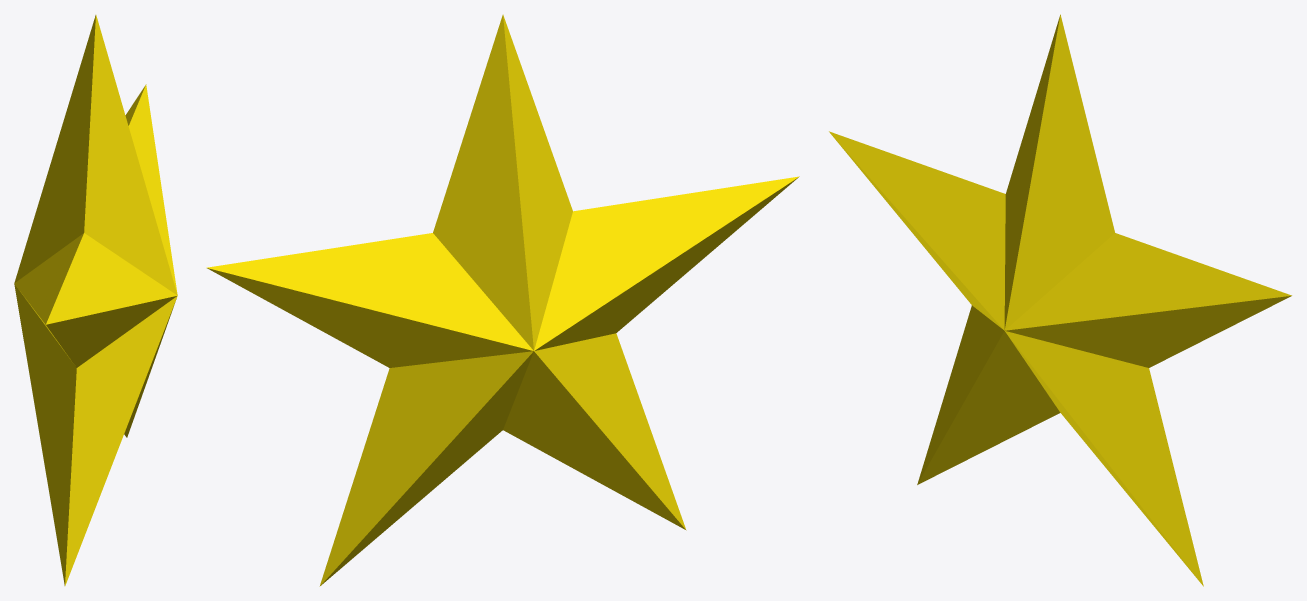
Rendered from star.gltf.
3 renders of one model, left to right at view 1: azimuth 30°, elevation 25°; view 2: azimuth 150°, elevation 25°; view 3: azimuth 270°, elevation 25°, orthographic. The views are drawn at different scales.
Visible parts, largest first — view 1: Mesh_Mesh.004; view 2: Mesh_Mesh.004; view 3: Mesh_Mesh.004.
Boxes of the visible parts, x1,y1,x2,y2 form: Mesh_Mesh.004: (14, 15, 177, 585); Mesh_Mesh.004: (206, 14, 799, 586); Mesh_Mesh.004: (829, 14, 1291, 586).
Size of the model in its own units: 4.51 by 6.67 by 5.37.
